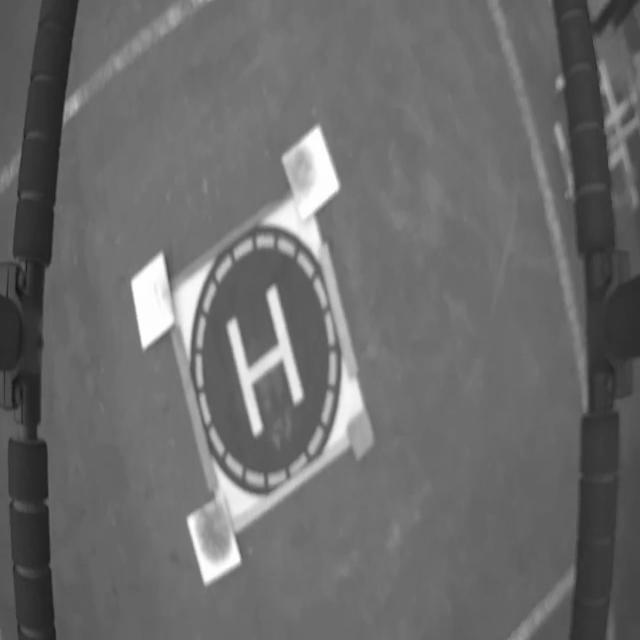Helipad: (226, 284, 306, 439)
